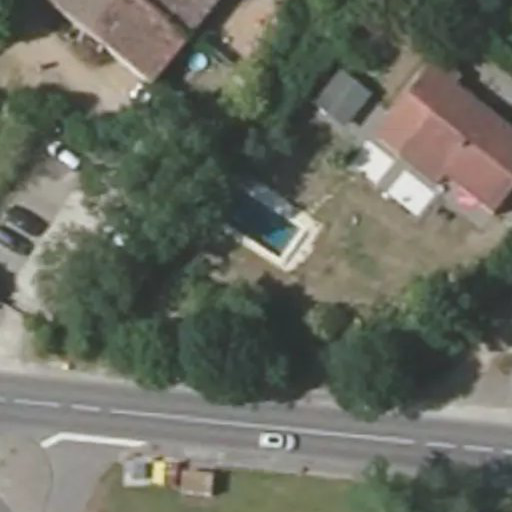pool: (214, 235, 297, 247)
